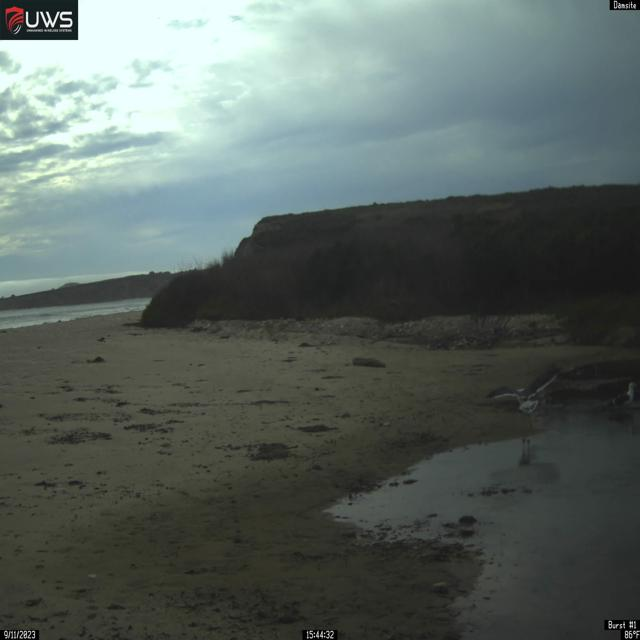bird: (485, 365, 562, 414)
